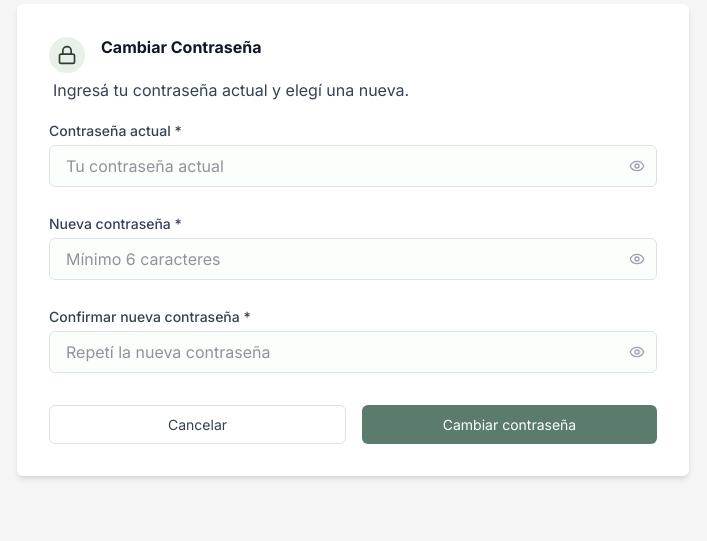
ChangePassword › muestra error de validación cuando el formulario está vacío
The width and height of the screenshot is (707, 541).
Expected: the password field with placeholder "Tu contraseña actual" is shown, [49,145,657,187]
Click the button "Cambiar contraseña" at (510,425), box [362,405,657,444]
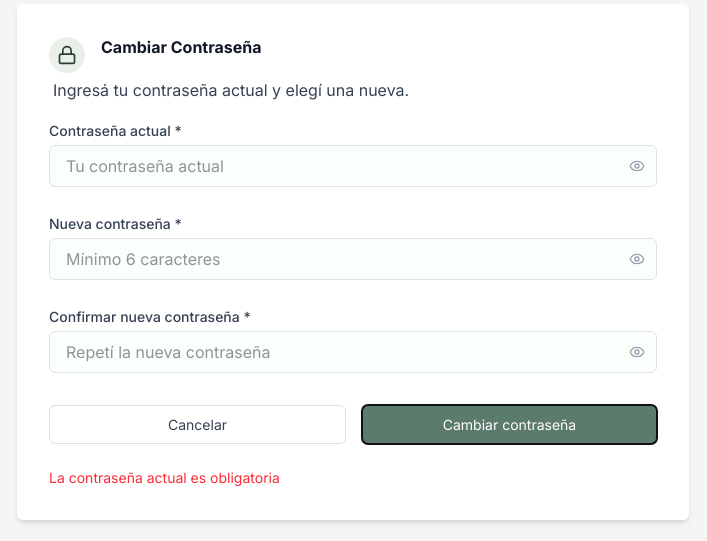
Now the text "La contraseña actual es obligatoria" is shown, box [49,469,280,486]
